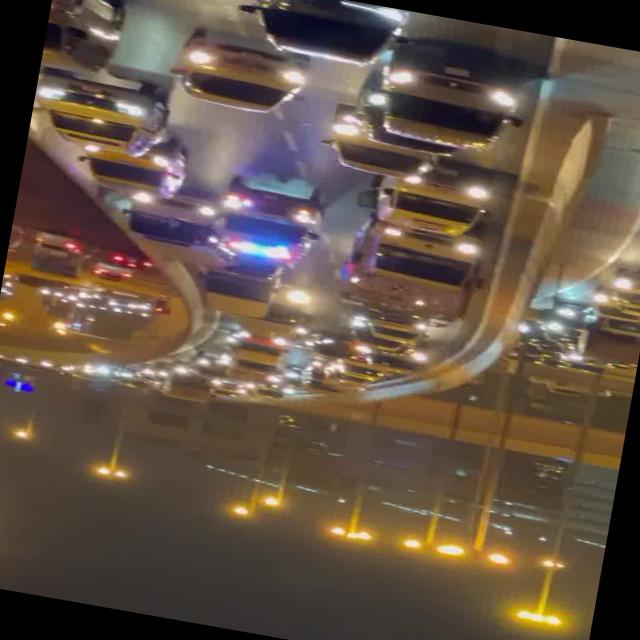ambulance: (210, 172, 336, 275)
